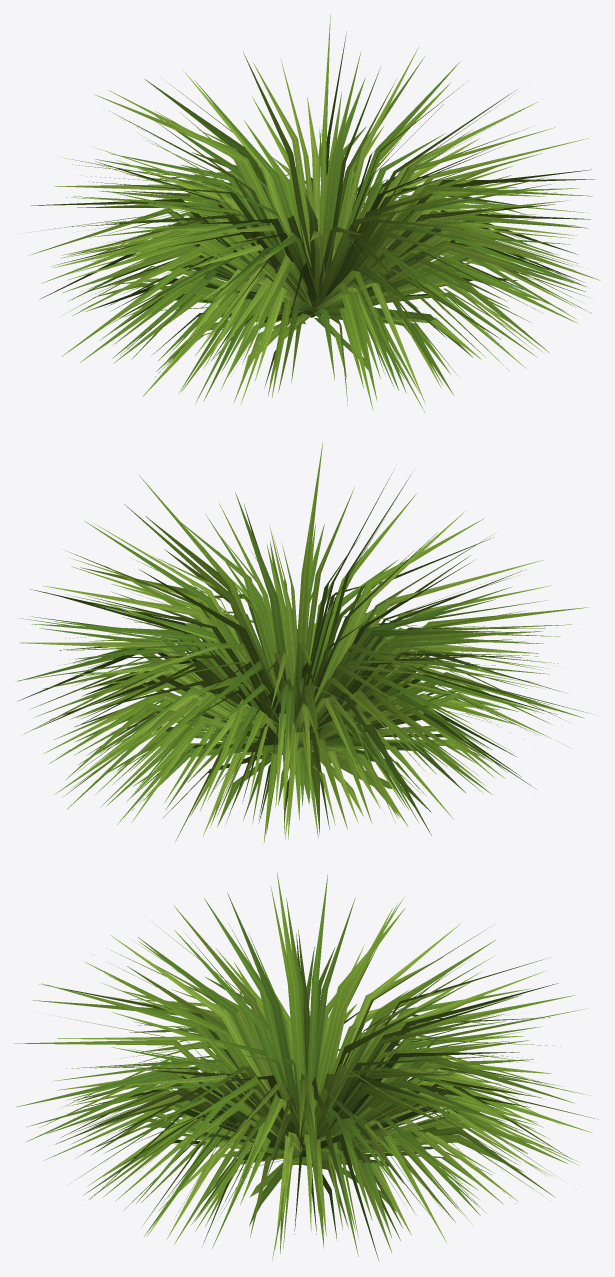
File: shade_grass_v03_LOD1.fbx
3 views of the same model, one above another, from view 1: azimuth 30°, elevation 25°; view 2: azimuth 150°, elevation 25°; view 3: azimuth 270°, elevation 25° (orthographic).
Visible parts, largest first — view 1: shade_grass_v03_LOD1; view 2: shade_grass_v03_LOD1; view 3: shade_grass_v03_LOD1.
Boxes of the visible parts, left/top/right/bottom form: shade_grass_v03_LOD1: left=26, top=14, right=600, bottom=412; shade_grass_v03_LOD1: left=17, top=442, right=592, bottom=843; shade_grass_v03_LOD1: left=14, top=872, right=598, bottom=1261.
Bounding box in the file's own units: 95.64 × 94.75 × 36.45.
Materials: 1 (1 with a texture image).
